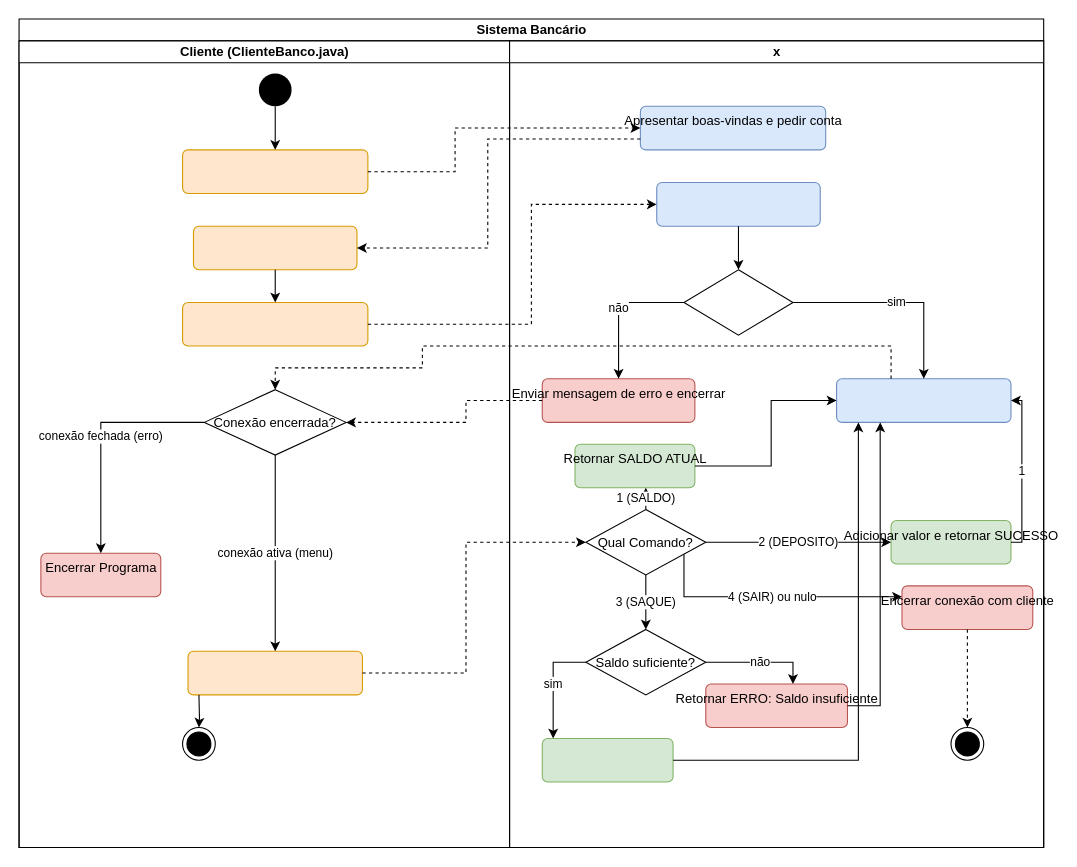
This 1077x867 diagram has some shape labels left out. The box of each missing label's shape, as (x1, y1, x2, y2) in pixels:
Apresentar MENU de operações: (835, 378, 1011, 422)
Apresentar menu e enviar opção: (187, 650, 362, 695)
Conectar ao Servidor (localhost:12348): (181, 149, 368, 193)
Conta Existe?: (683, 269, 793, 335)
Ler boas-vindas do Servidor: (192, 225, 357, 270)
Receber número da conta: (656, 181, 820, 226)
Solicitar conta ao usuário e enviar: (181, 301, 368, 346)
Subtrair valor e retornar SUCESSO: (541, 737, 673, 782)
